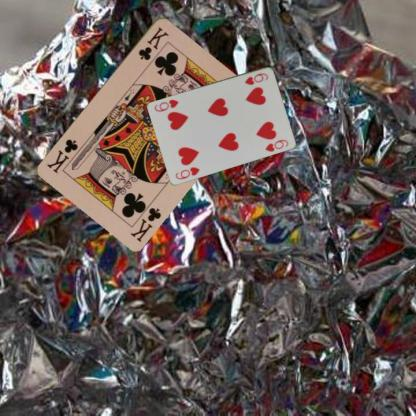6h: (173, 164, 201, 180), (242, 71, 269, 86)
Kc: (135, 24, 170, 62), (127, 204, 162, 242)
